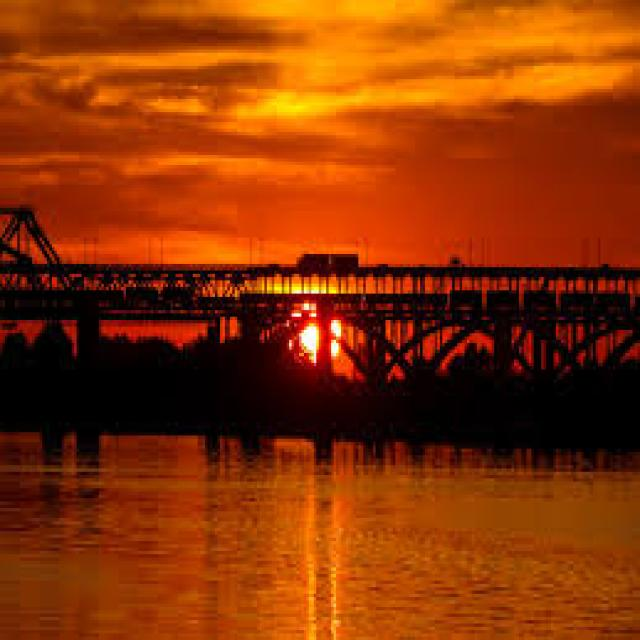Bridges: (0, 180, 640, 475)
